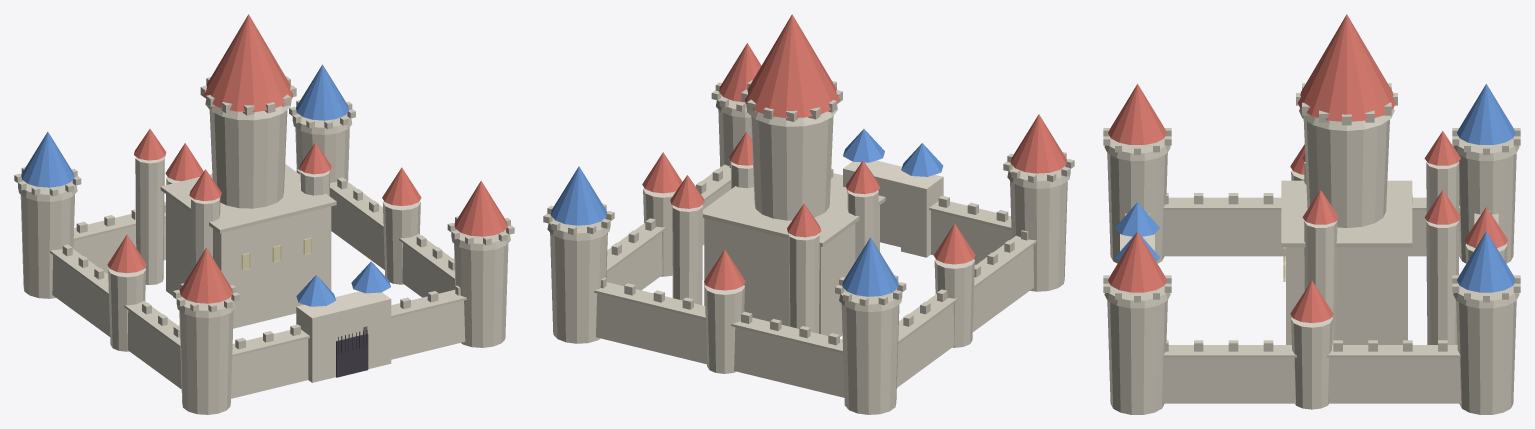
File: castle.glb
3 views of the same model, side by side, from view 1: azimuth 30°, elevation 25°; view 2: azimuth 150°, elevation 25°; view 3: azimuth 270°, elevation 25° (orthographic). The views are drawn at different scales.
Visible parts, largest first — view 1: castle; view 2: castle; view 3: castle.
Part boxes in pixels (bbox=[...]): castle: bbox=[14, 14, 514, 414]; castle: bbox=[543, 14, 1074, 414]; castle: bbox=[1103, 14, 1520, 414].
Size of the model in its own units: 96.4 by 80 by 95.68.
